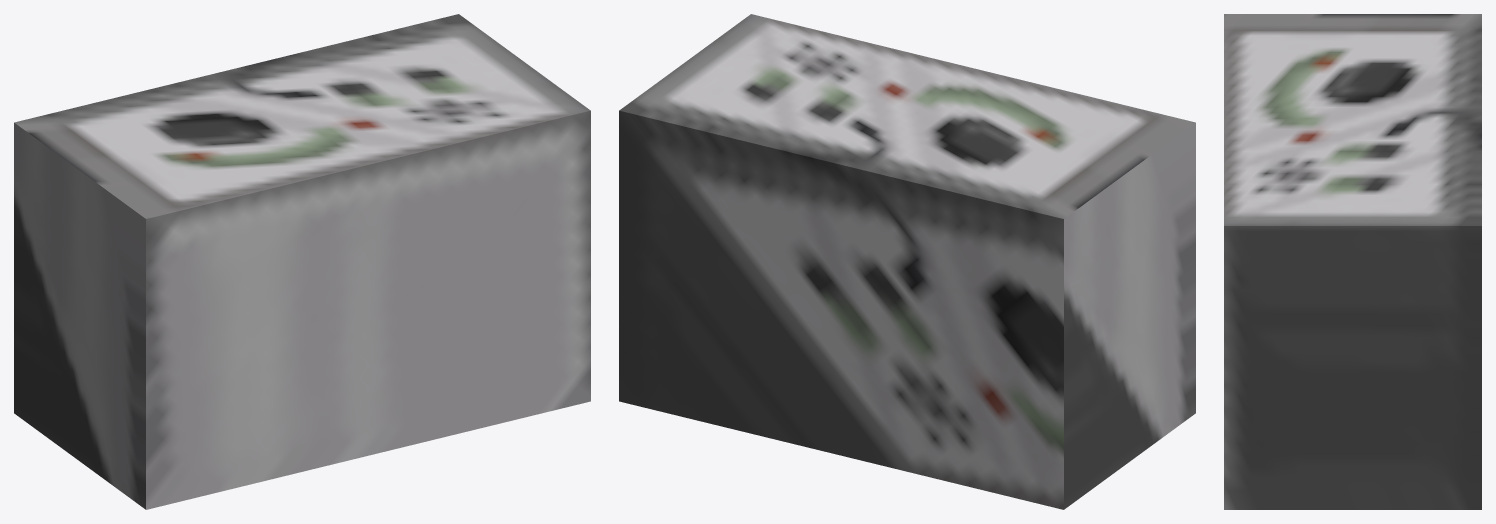
The model's file is pz_house_premium_ham.obj.
The picture shows the model from 3 angles, left to right: view 1: azimuth 30°, elevation 25°; view 2: azimuth 150°, elevation 25°; view 3: azimuth 270°, elevation 25°; orthographic projection. The views are drawn at different scales.
Visible parts, largest first — view 1: pz_house_premium_ham_|_1_caixa_painel_nativo; view 2: pz_house_premium_ham_|_1_caixa_painel_nativo; view 3: pz_house_premium_ham_|_1_caixa_painel_nativo.
Boxes of the visible parts, x1=… form: pz_house_premium_ham_|_1_caixa_painel_nativo: x1=14, y1=14, x2=590, y2=509; pz_house_premium_ham_|_1_caixa_painel_nativo: x1=619, y1=14, x2=1195, y2=509; pz_house_premium_ham_|_1_caixa_painel_nativo: x1=1224, y1=14, x2=1481, y2=509.
Size of the model in its own units: 0.602 by 0.3762 by 0.3095.
1 material, 1 textured.
